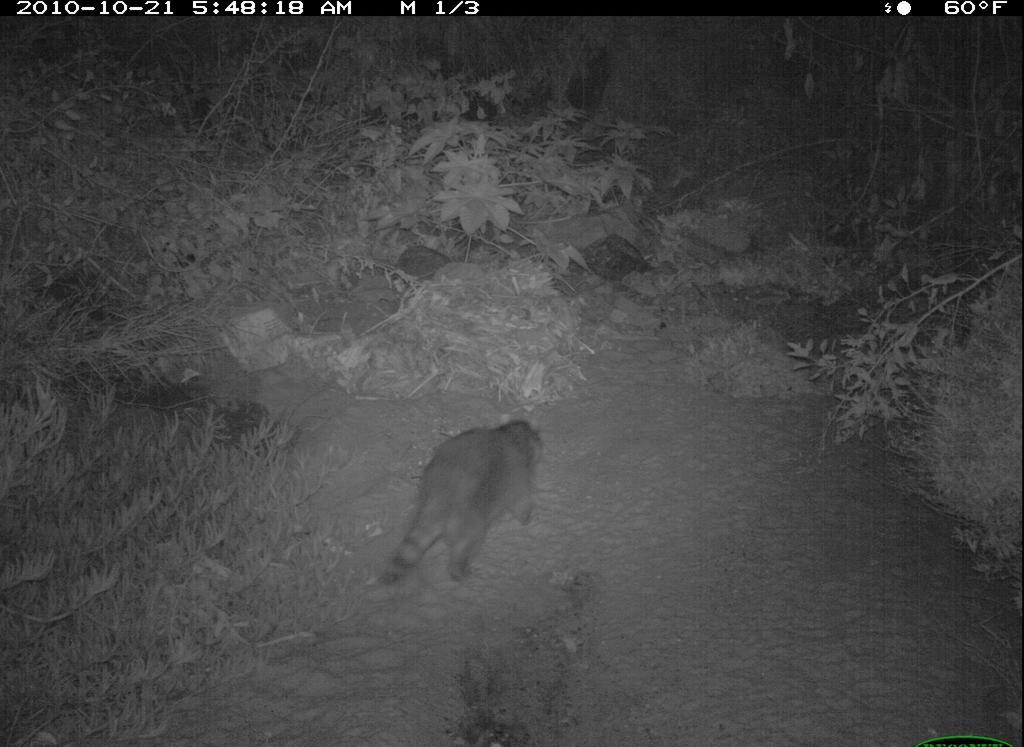raccoon: (379, 405, 556, 588)
